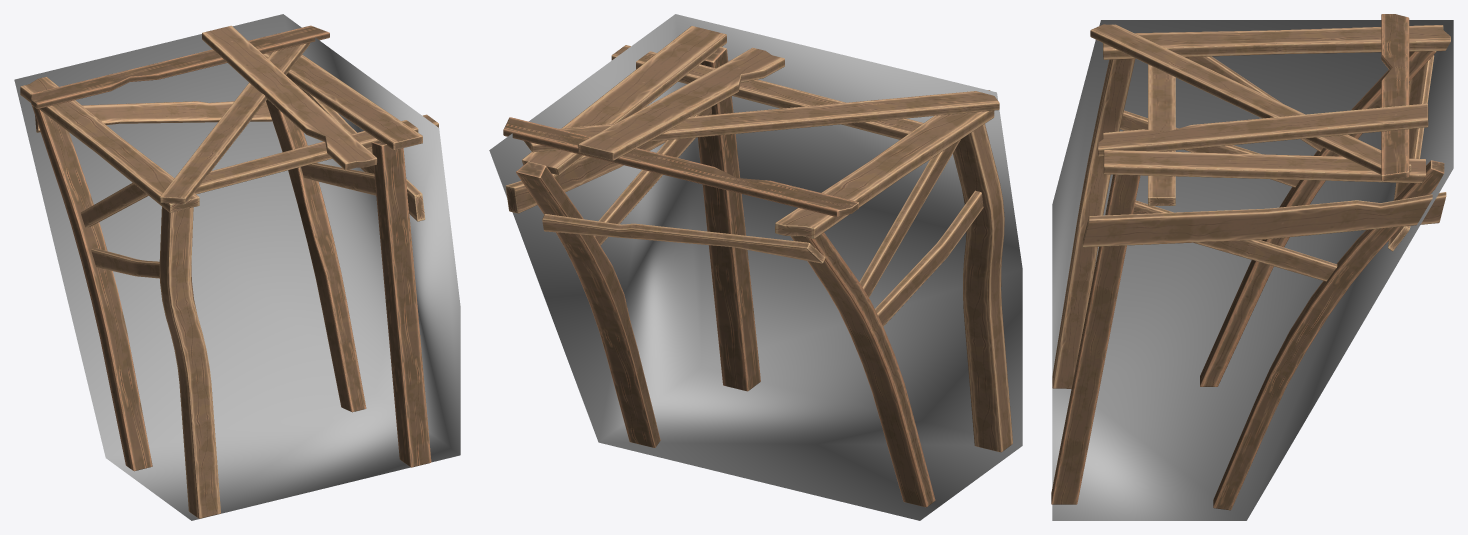
Rendered from SM_Shelter_02.gltf.
3 renders of one model, left to right at view 1: azimuth 30°, elevation 25°; view 2: azimuth 150°, elevation 25°; view 3: azimuth 270°, elevation 25°, orthographic. The views are drawn at different scales.
Visible parts, largest first — view 1: SM_Shelter_02_ConvexHulls, SM_Shelter_02_LOD0; view 2: SM_Shelter_02_ConvexHulls, SM_Shelter_02_LOD0; view 3: SM_Shelter_02_ConvexHulls, SM_Shelter_02_LOD0.
Boxes of the visible parts, bbox=[...] form: SM_Shelter_02_ConvexHulls: bbox=[14, 14, 460, 520]; SM_Shelter_02_LOD0: bbox=[20, 25, 438, 518]; SM_Shelter_02_ConvexHulls: bbox=[489, 14, 1022, 520]; SM_Shelter_02_LOD0: bbox=[503, 26, 1012, 507]; SM_Shelter_02_ConvexHulls: bbox=[1052, 20, 1453, 520]; SM_Shelter_02_LOD0: bbox=[1051, 14, 1450, 510].
Size of what is drawn, in the model's own units: 2.95 by 3.06 by 3.04.
Materials: 2 (1 with a texture image).
